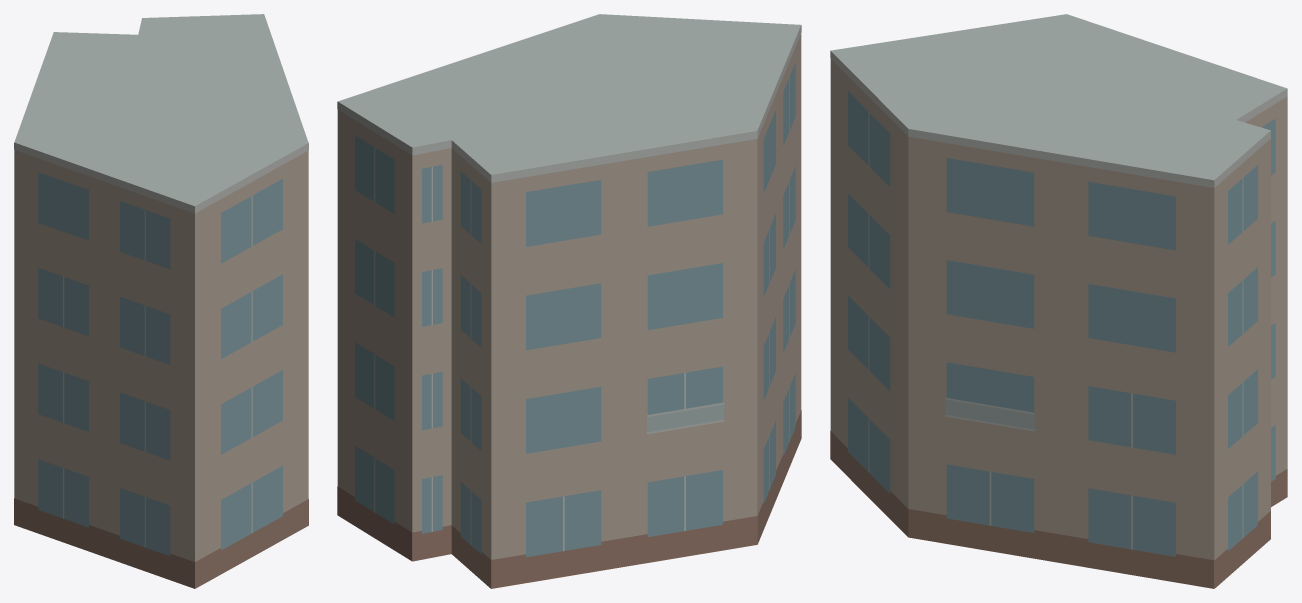
Rendered from survey-upis-32479694.glb.
3 views of the same model, side by side, from view 1: azimuth 30°, elevation 25°; view 2: azimuth 150°, elevation 25°; view 3: azimuth 270°, elevation 25° (orthographic). The views are drawn at different scales.
Visible parts, largest first — view 1: survey-upis-32479694.tmp; view 2: survey-upis-32479694.tmp; view 3: survey-upis-32479694.tmp.
Boxes of the visible parts, box(x1,y1,x2,y2) form: survey-upis-32479694.tmp: box(14, 14, 308, 588); survey-upis-32479694.tmp: box(337, 14, 801, 588); survey-upis-32479694.tmp: box(830, 14, 1287, 588).
Bounding box in the file's own units: 11.18 × 12.8 × 12.99.
